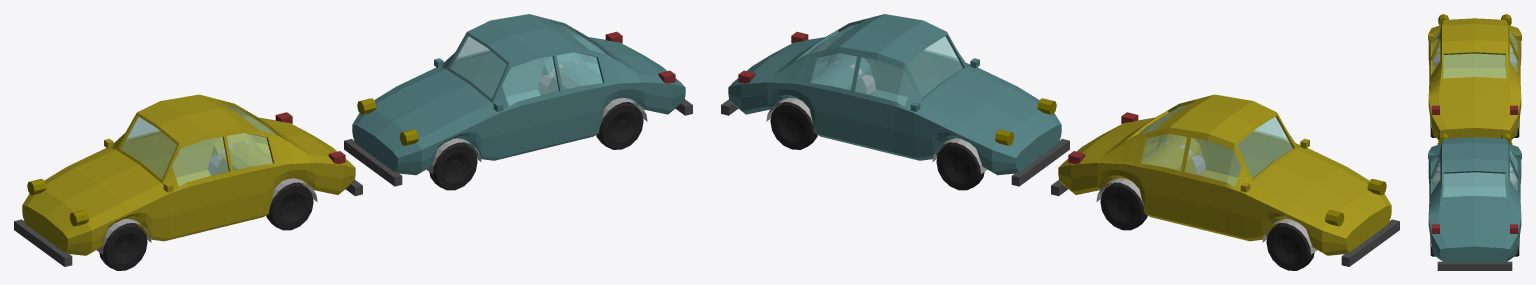
File: Vochos.fbx
The picture shows the model from 3 angles, left to right: view 1: azimuth 30°, elevation 25°; view 2: azimuth 150°, elevation 25°; view 3: azimuth 270°, elevation 25°; orthographic projection. The views are drawn at different scales.
Parts seen in each view (by area): view 1: mirrors1, vw_vocho_lowpoly1:mirrors1, wheel_5, vw_vocho_lowpoly1:wheel_5, vw_vocho_lowpoly1:bumper_front1, bumper_front1, wells4, vw_vocho_lowpoly1:wells4, lights1, vw_vocho_lowpoly1:lights1; view 2: mirrors1, vw_vocho_lowpoly1:mirrors1, vw_vocho_lowpoly1:wheel_5, wheel_5, vw_vocho_lowpoly1:bumper_front1, bumper_front1, vw_vocho_lowpoly1:wells4, wells4, lights1, vw_vocho_lowpoly1:lights1; view 3: mirrors1, vw_vocho_lowpoly1:mirrors1, bumper_front1, vw_vocho_lowpoly1:wells4, wells4, lights, vw_vocho_lowpoly1:lights, lights1, vw_vocho_lowpoly1:lights1.
Part boxes in pixels (x1,y1,x2,y2): mirrors1: (352, 14, 685, 175); vw_vocho_lowpoly1:mirrors1: (22, 94, 355, 255); wheel_5: (429, 71, 643, 190); vw_vocho_lowpoly1:wheel_5: (99, 182, 313, 270); vw_vocho_lowpoly1:bumper_front1: (14, 180, 362, 266); bumper_front1: (344, 99, 692, 186); wells4: (426, 61, 647, 173); vw_vocho_lowpoly1:wells4: (96, 141, 317, 254); lights1: (357, 98, 418, 145); vw_vocho_lowpoly1:lights1: (27, 179, 88, 226); mirrors1: (728, 14, 1061, 175); vw_vocho_lowpoly1:mirrors1: (1058, 94, 1391, 255); vw_vocho_lowpoly1:wheel_5: (1100, 182, 1314, 270); wheel_5: (770, 102, 984, 190); vw_vocho_lowpoly1:bumper_front1: (1051, 180, 1399, 266); bumper_front1: (721, 99, 1069, 186); vw_vocho_lowpoly1:wells4: (1096, 141, 1317, 254); wells4: (766, 61, 987, 173); lights1: (995, 98, 1056, 145); vw_vocho_lowpoly1:lights1: (1325, 179, 1386, 226); mirrors1: (1428, 137, 1521, 262); vw_vocho_lowpoly1:mirrors1: (1428, 18, 1521, 139); bumper_front1: (1437, 261, 1512, 270); vw_vocho_lowpoly1:wells4: (1430, 40, 1519, 127); wells4: (1430, 159, 1519, 246); lights: (1431, 224, 1518, 233); vw_vocho_lowpoly1:lights: (1431, 105, 1518, 114); lights1: (1438, 133, 1511, 144); vw_vocho_lowpoly1:lights1: (1438, 14, 1511, 25).
Size of the model in its own units: 27.55 by 4.74 by 4.84.
